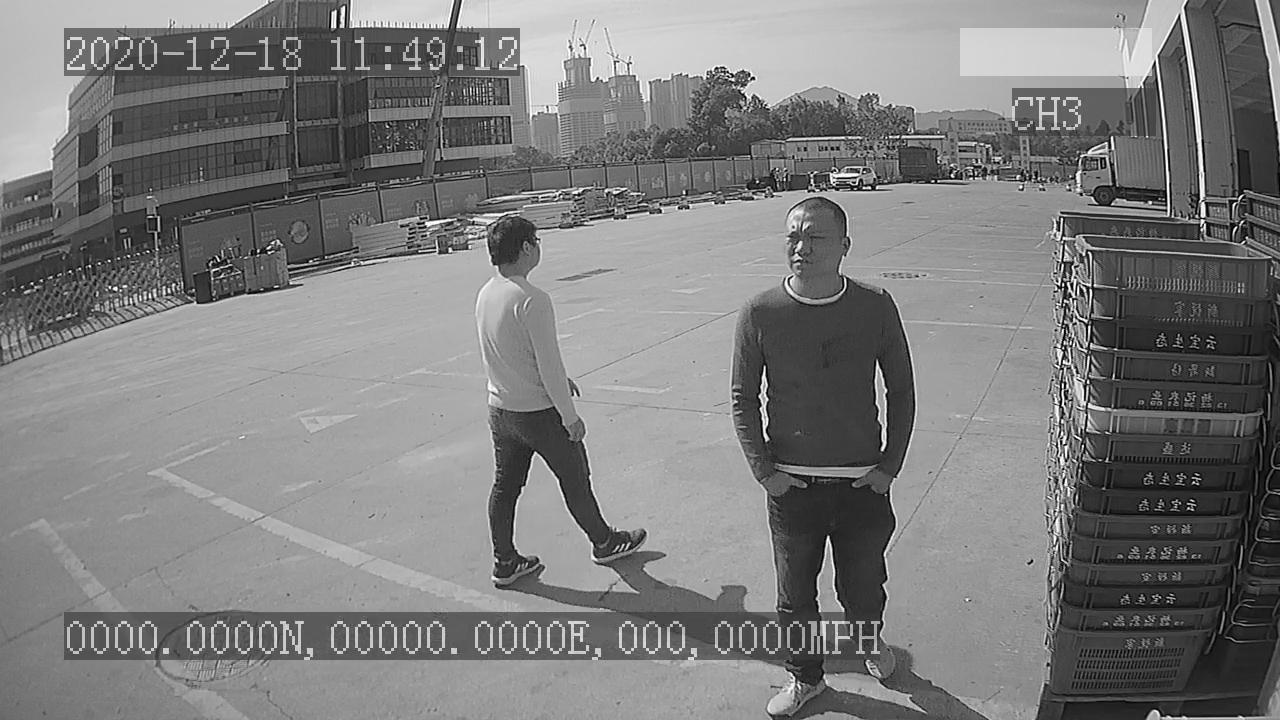person: (470, 213, 656, 594)
